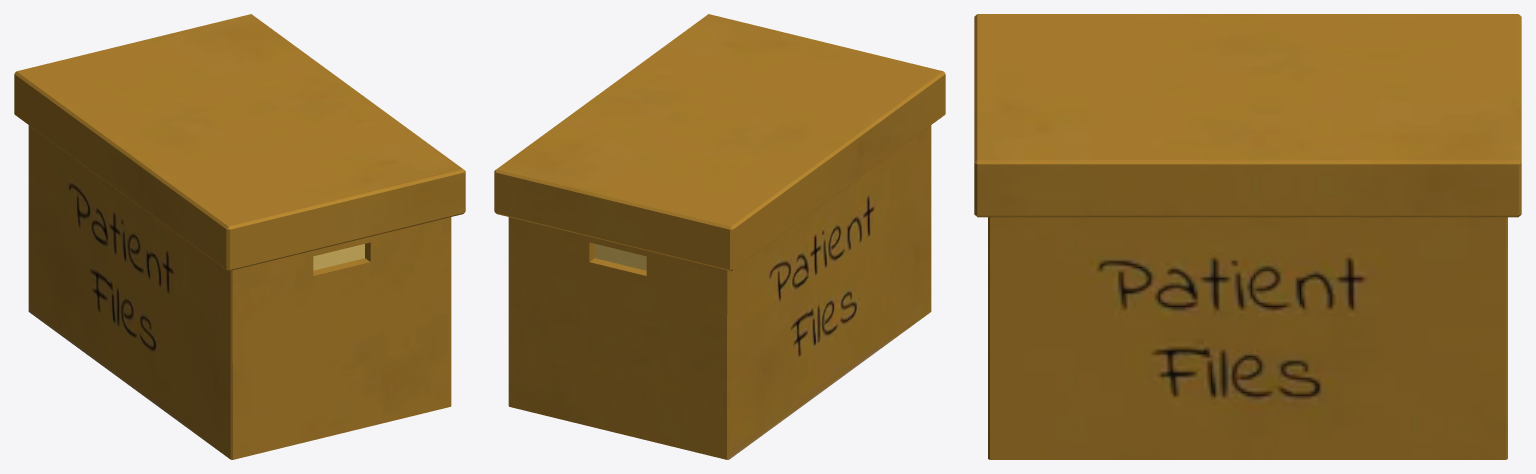
The model's file is filing_box.glb.
The picture shows the model from 3 angles, left to right: view 1: azimuth 30°, elevation 25°; view 2: azimuth 150°, elevation 25°; view 3: azimuth 270°, elevation 25°; orthographic projection. The views are drawn at different scales.
Parts seen in each view (by area): view 1: Object_2; view 2: Object_2; view 3: Object_2.
Part boxes in pixels (bbox=[...]): Object_2: bbox=[14, 14, 465, 459]; Object_2: bbox=[494, 14, 945, 459]; Object_2: bbox=[974, 14, 1521, 459].
Bounding box in the file's own units: 54.18 × 51.63 × 84.21.
1 material, 1 textured.
